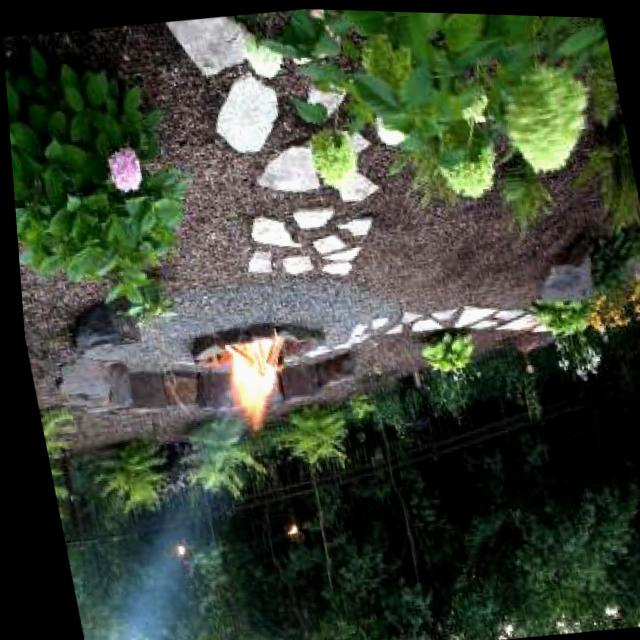Fire: (213, 337, 287, 423)
